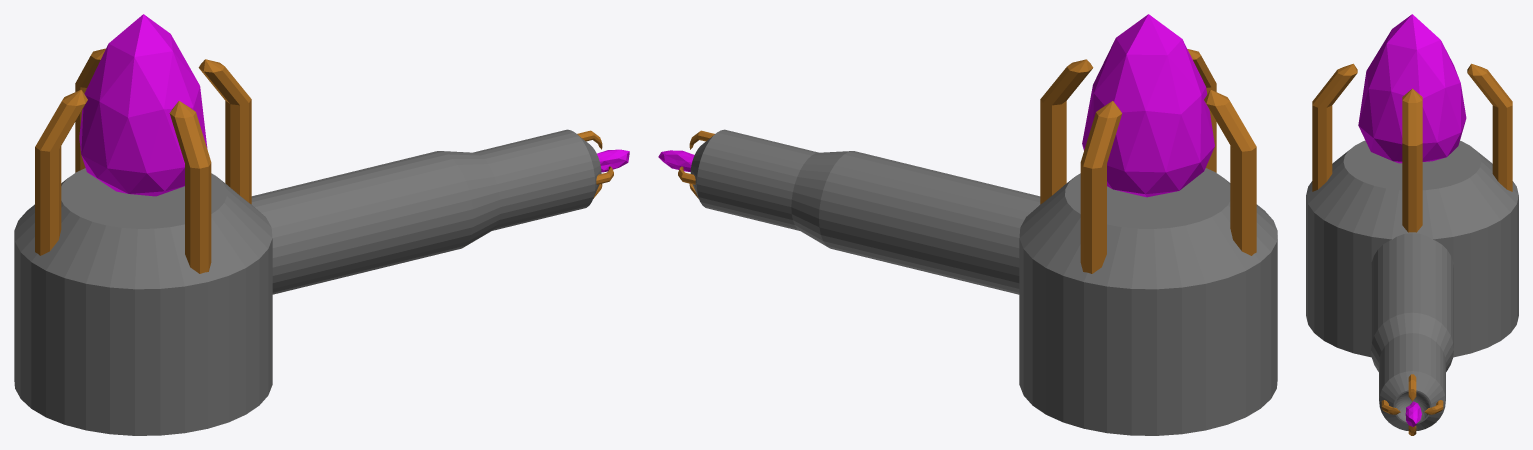
File: TankMagiqueCannon.fbx
The picture shows the model from 3 angles, left to right: view 1: azimuth 30°, elevation 25°; view 2: azimuth 150°, elevation 25°; view 3: azimuth 270°, elevation 25°; orthographic projection. The views are drawn at different scales.
Parts seen in each view (by area): view 1: MagieCannon; view 2: MagieCannon; view 3: MagieCannon.
Boxes of the visible parts, x1,y1,x2,y2 form: MagieCannon: [14, 14, 629, 435]; MagieCannon: [658, 14, 1277, 435]; MagieCannon: [1306, 14, 1518, 435].
Bounding box in the file's own units: 536 × 313 × 200.
